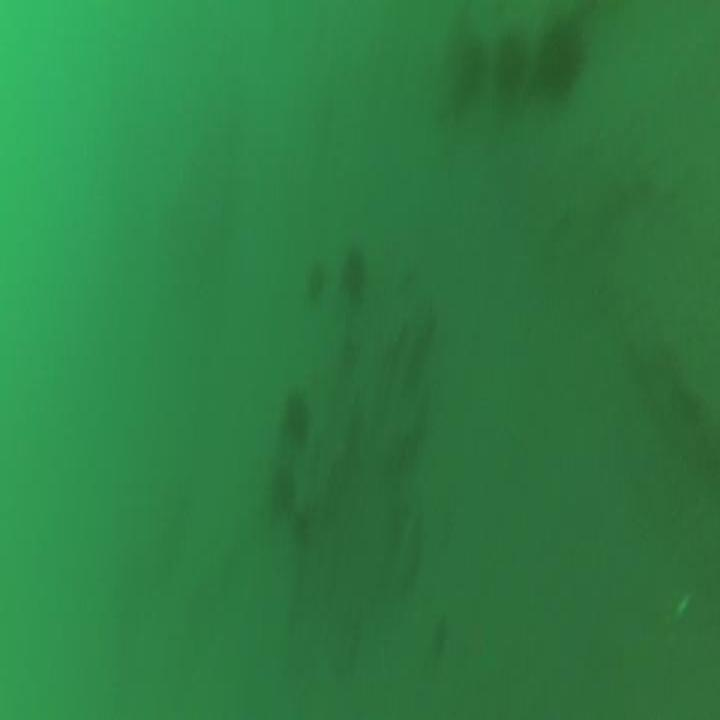echinus: (540, 16, 590, 107), (337, 242, 377, 313), (495, 27, 529, 101), (279, 377, 314, 441), (457, 30, 485, 96), (270, 459, 298, 519), (307, 251, 330, 304)
